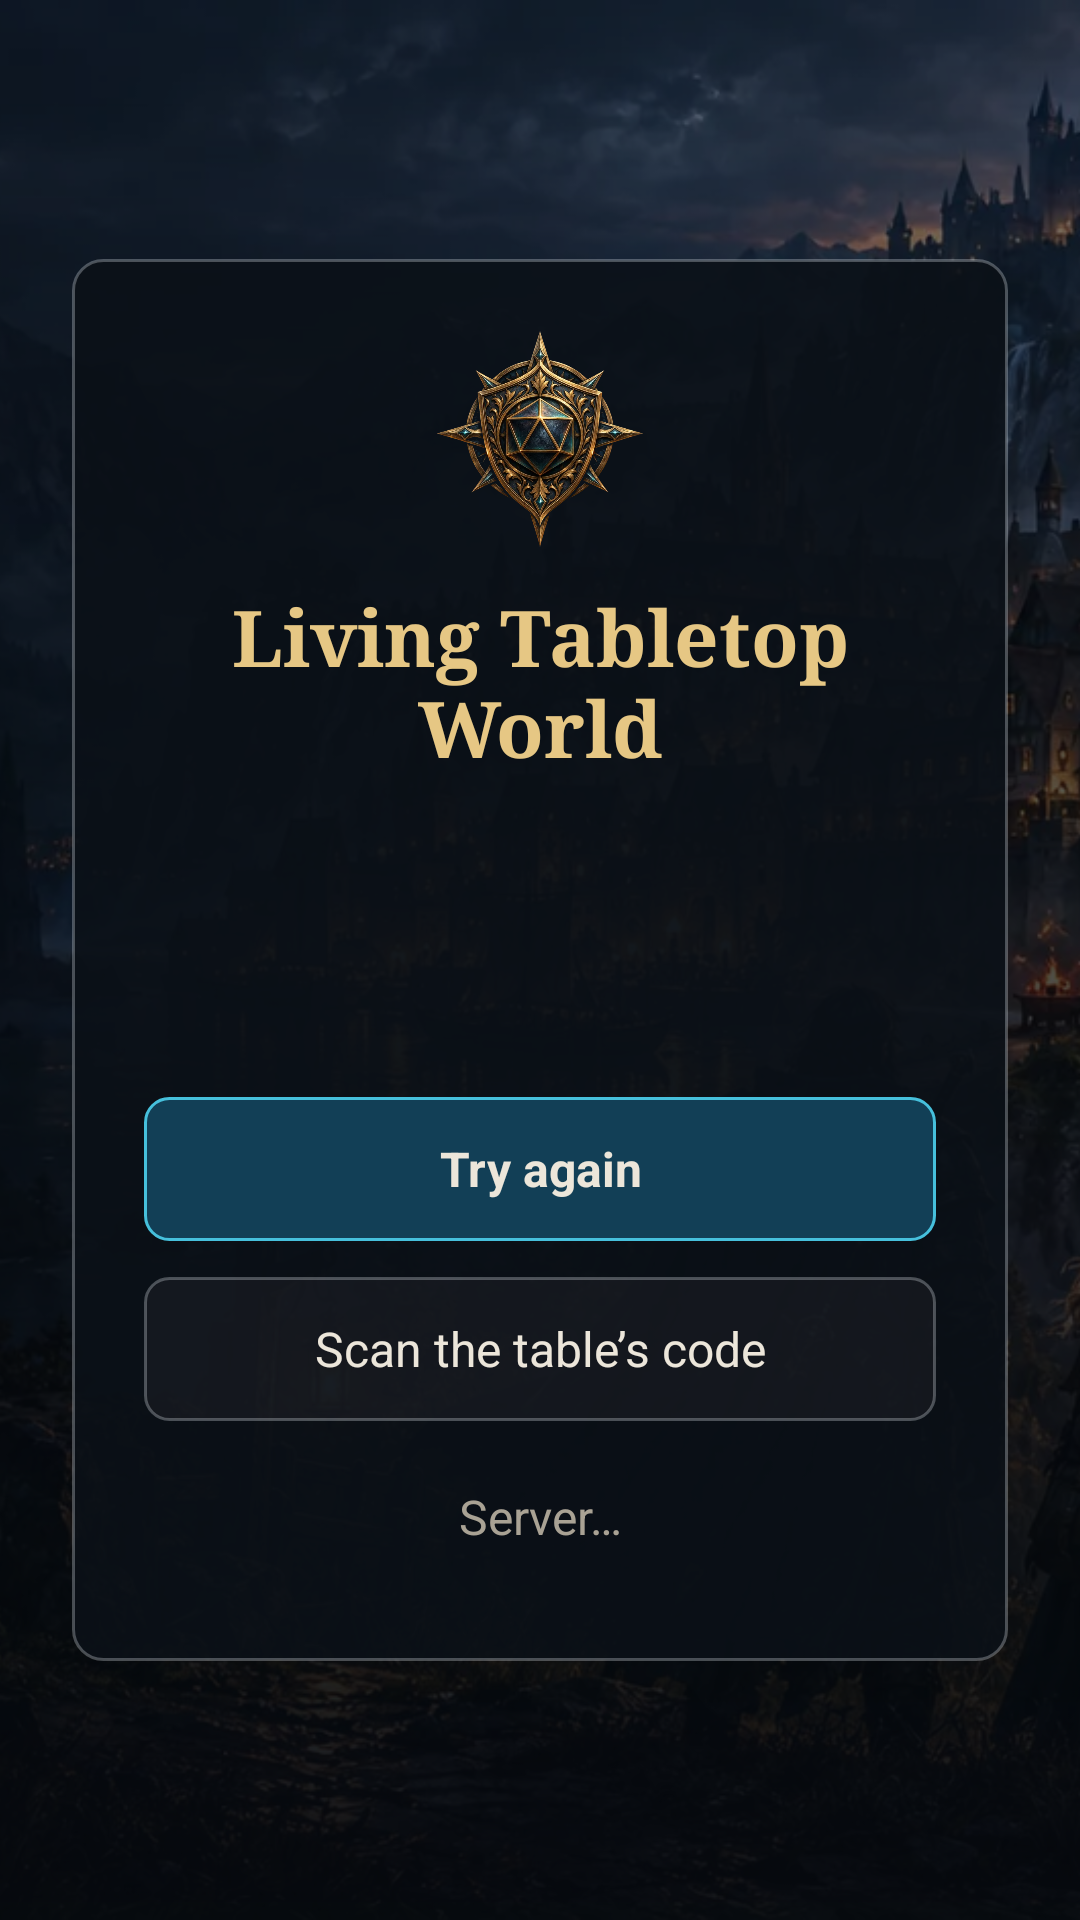

Where to tap for icons on this 1080×1920 app screen, as point (x, y):
emblem: point (540, 439)
